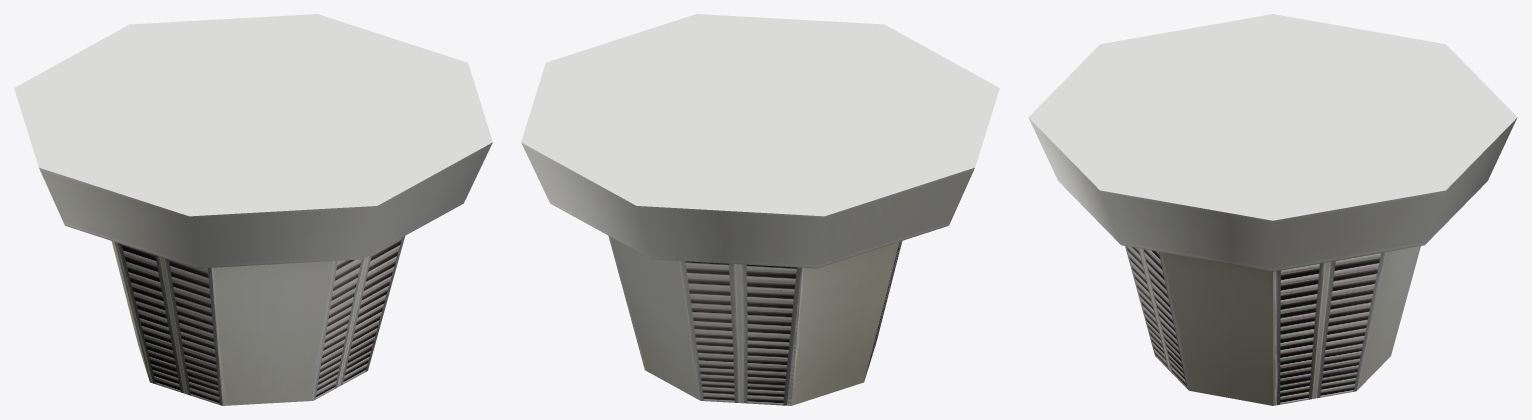
3 renders of one model, left to right at view 1: azimuth 30°, elevation 25°; view 2: azimuth 150°, elevation 25°; view 3: azimuth 270°, elevation 25°, orthographic.
Visible parts, largest first — view 1: Lo-烟感ly_01; view 2: Lo-烟感ly_01; view 3: Lo-烟感ly_01.
Boxes of the visible parts, x1,y1,x2,y2 form: Lo-烟感ly_01: (14,14,492,405); Lo-烟感ly_01: (521,14,999,405); Lo-烟感ly_01: (1028,14,1517,405).
Size of the model in its own units: 0.2361 by 0.1271 by 0.2361.
1 material, 1 textured.
